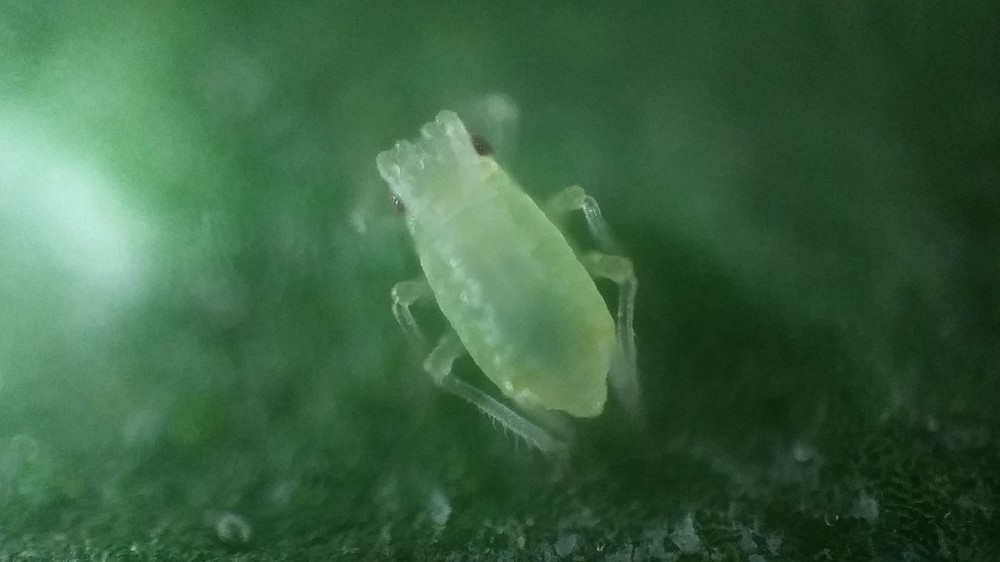Pulgon: (336, 88, 711, 482)
